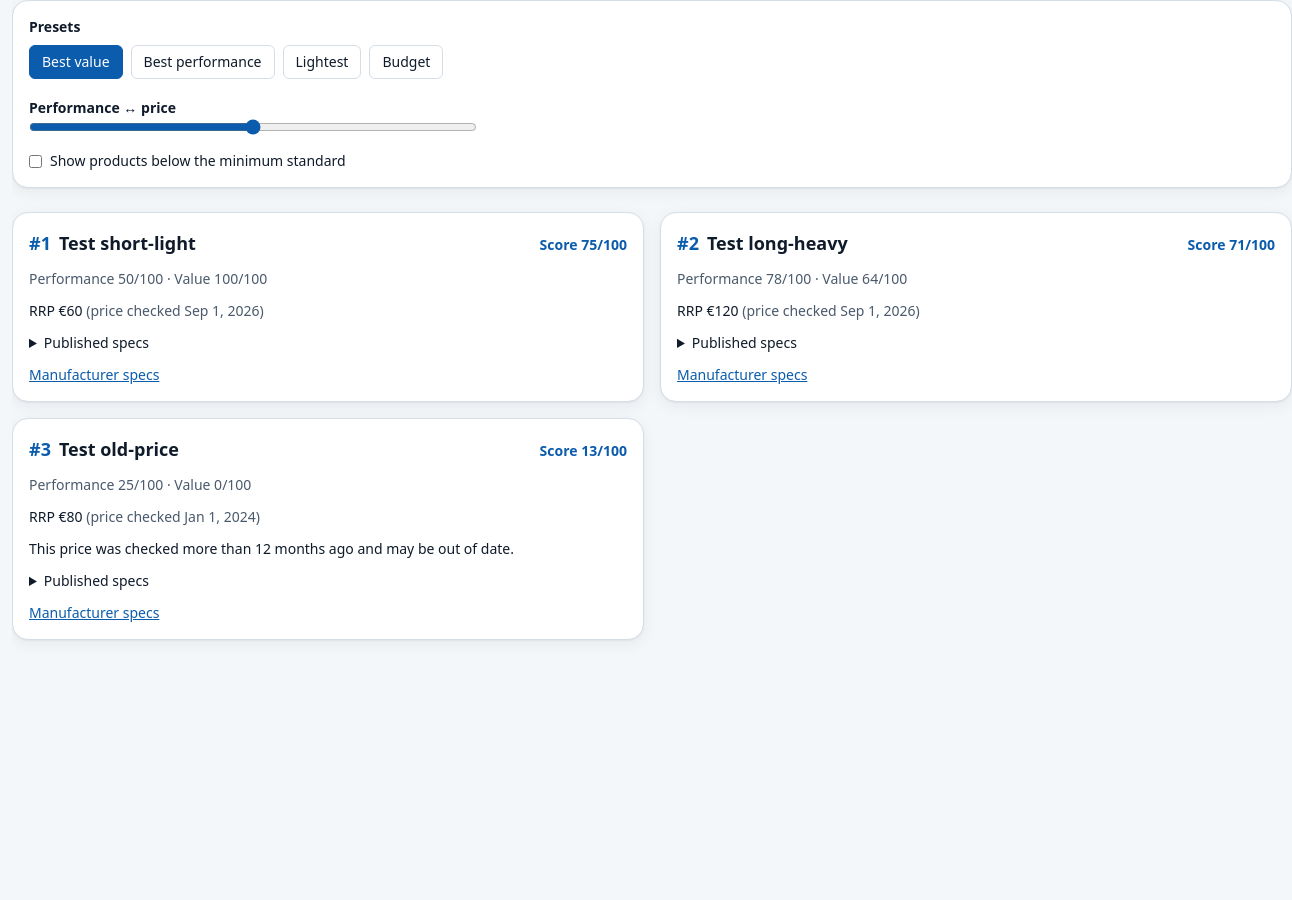
Test case: GearRanking › products below the minimum appear only on request, with the reason
The image size is (1292, 900).
Expected: the text "Misses:" is not shown
Click the checkbox labelled "Show products below the minimum standard" at [36, 161], box [29,154,42,168]
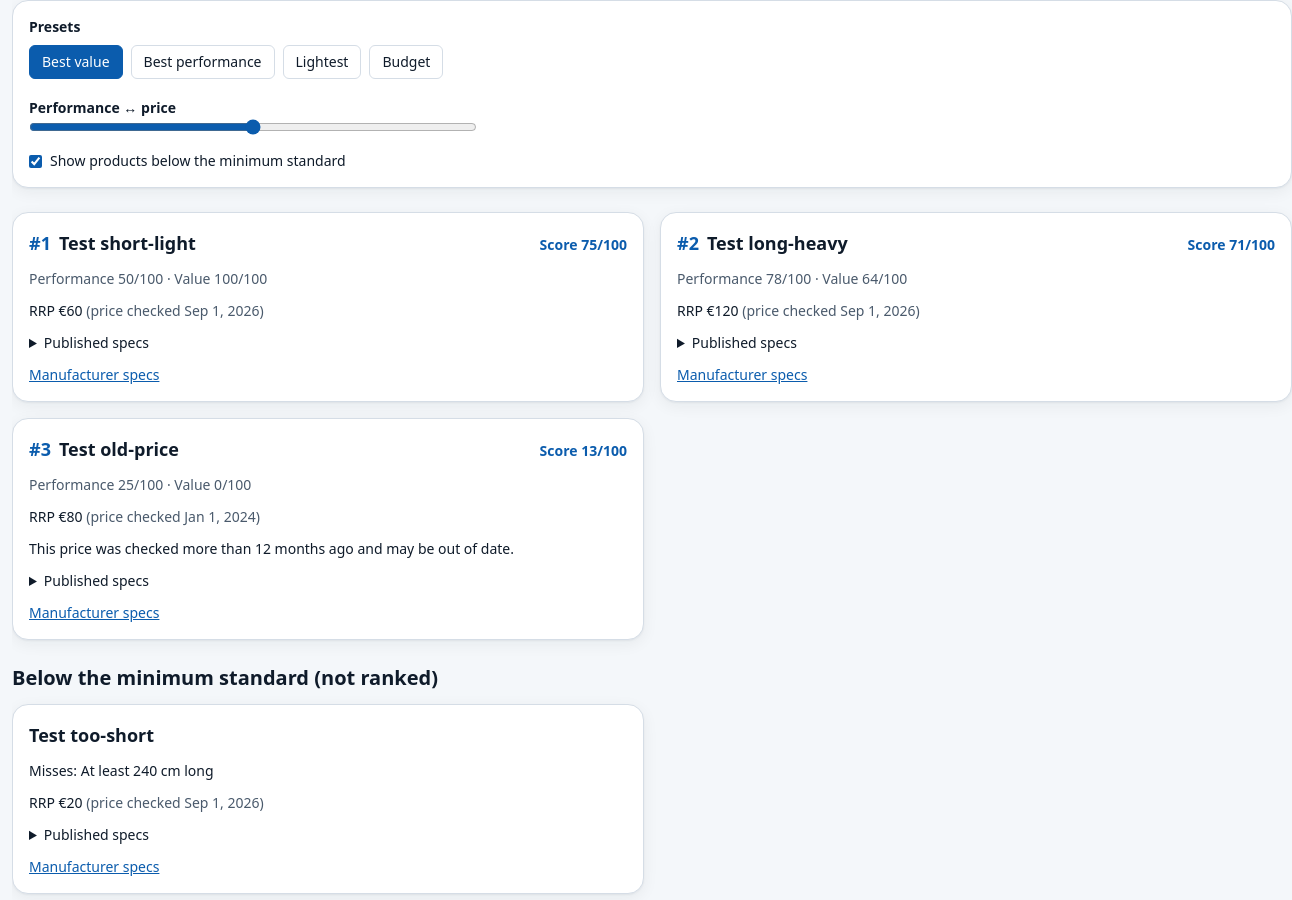
Expected: the text "Misses: At least 240 cm long" is shown, [29,761,214,780]
